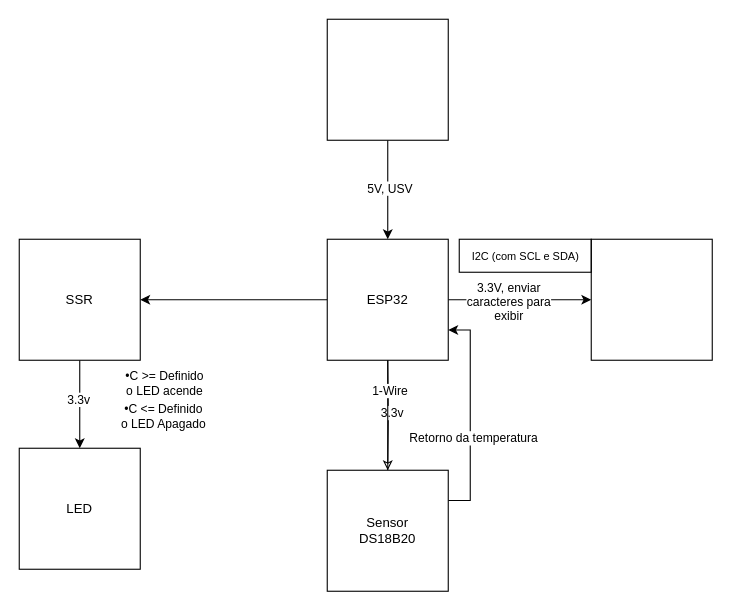
Some shapes in this 732 by 611 pixel diagram are drawn without their labels. The centre of each missing label's shape, as x and y in pixels:
Display SSD1306: point 651,299
Fonte de alimentação: point 387,79
